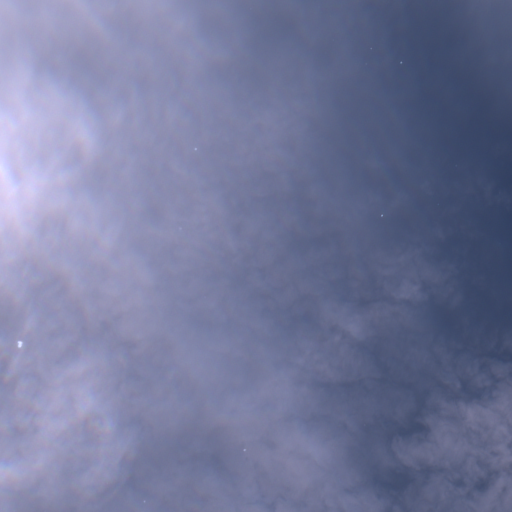Iceberg: (17, 341, 22, 347), (400, 61, 402, 63), (243, 449, 246, 450), (194, 148, 196, 149), (381, 214, 382, 216)
